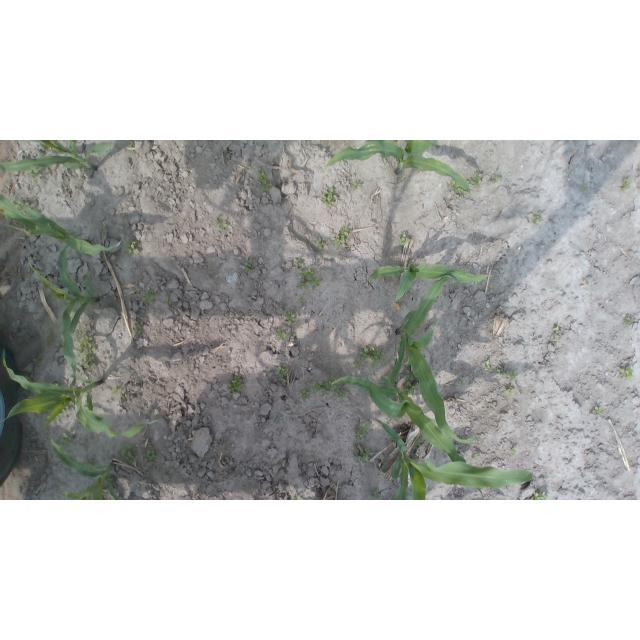Maize: (329, 375, 485, 500), (391, 275, 480, 448), (0, 347, 158, 437), (373, 416, 536, 500), (30, 233, 99, 384), (325, 140, 472, 197), (0, 189, 122, 255), (370, 258, 493, 307), (47, 435, 124, 500), (0, 140, 114, 172)
Weeds: (310, 375, 348, 399), (76, 328, 97, 371), (354, 345, 385, 369), (400, 369, 417, 396), (351, 444, 373, 464), (119, 441, 137, 464), (42, 323, 58, 346), (227, 373, 244, 394), (256, 172, 273, 193), (320, 188, 337, 209), (331, 227, 349, 246), (449, 179, 467, 197), (300, 268, 317, 284), (353, 421, 370, 437), (141, 289, 159, 304), (465, 173, 483, 188), (495, 369, 517, 380), (123, 240, 139, 255), (283, 308, 297, 325), (142, 448, 160, 461), (242, 259, 255, 273), (28, 168, 40, 183), (60, 431, 72, 445), (490, 171, 504, 183), (619, 368, 633, 380), (298, 387, 310, 401), (275, 329, 290, 340), (530, 491, 547, 500), (621, 177, 631, 191), (216, 219, 228, 230), (531, 213, 543, 224), (277, 367, 287, 380), (400, 231, 409, 245), (15, 199, 29, 207), (313, 278, 324, 288), (293, 257, 303, 268), (592, 406, 604, 415), (316, 238, 324, 251), (414, 436, 424, 446), (112, 386, 121, 397), (24, 374, 36, 382), (622, 316, 634, 324), (371, 492, 381, 501), (296, 283, 308, 290), (504, 389, 516, 396), (33, 356, 42, 365), (274, 413, 281, 423), (86, 459, 96, 466), (484, 360, 491, 370), (134, 324, 142, 332), (300, 296, 308, 304), (352, 183, 361, 190), (56, 412, 64, 419), (237, 312, 243, 321), (165, 299, 172, 306), (511, 447, 518, 454), (553, 325, 560, 332), (292, 496, 301, 501), (128, 141, 134, 148), (583, 184, 588, 188), (460, 380, 464, 384)
